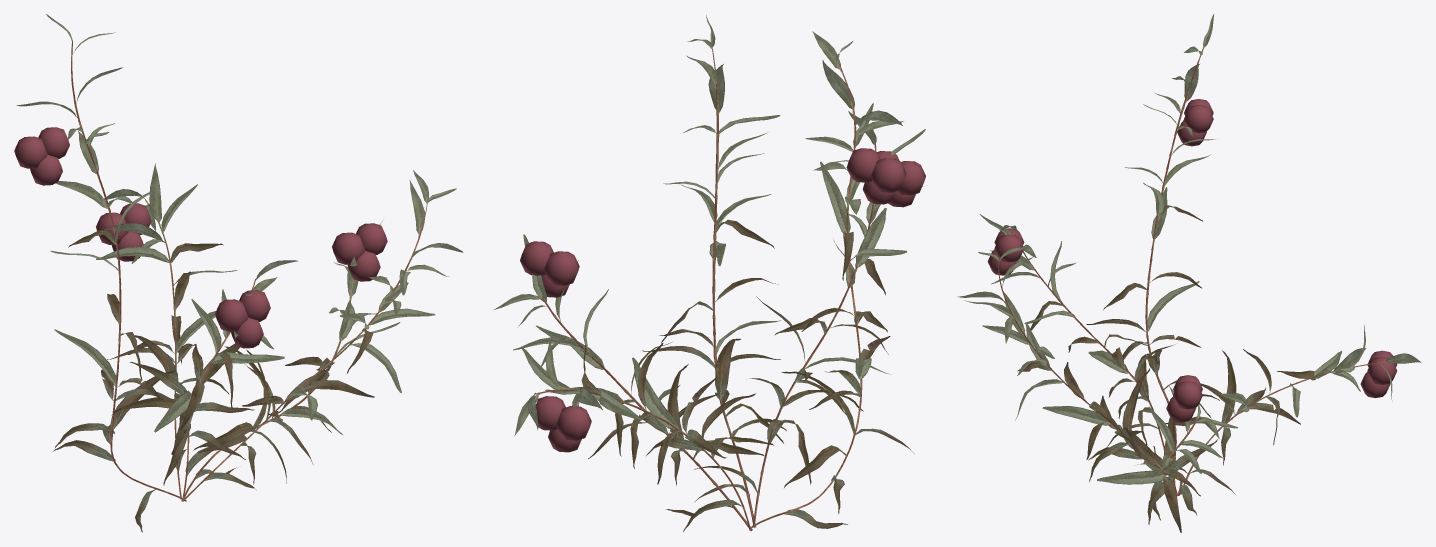
The model's file is natural-berry-bush-quiet.glb.
3 views of the same model, side by side, from view 1: azimuth 30°, elevation 25°; view 2: azimuth 150°, elevation 25°; view 3: azimuth 270°, elevation 25° (orthographic). The views are drawn at different scales.
Parts seen in each view (by area): view 1: natural-berry-bush-quiet runtime mesh; view 2: natural-berry-bush-quiet runtime mesh; view 3: natural-berry-bush-quiet runtime mesh.
Boxes of the visible parts, box(x1,y1,x2,y2) form: natural-berry-bush-quiet runtime mesh: box(14, 14, 463, 532); natural-berry-bush-quiet runtime mesh: box(493, 15, 925, 531); natural-berry-bush-quiet runtime mesh: box(957, 14, 1420, 532).
Bounding box in the file's own units: 0.8165 × 1.05 × 1.02.
Materials: 2 (1 with a texture image).
